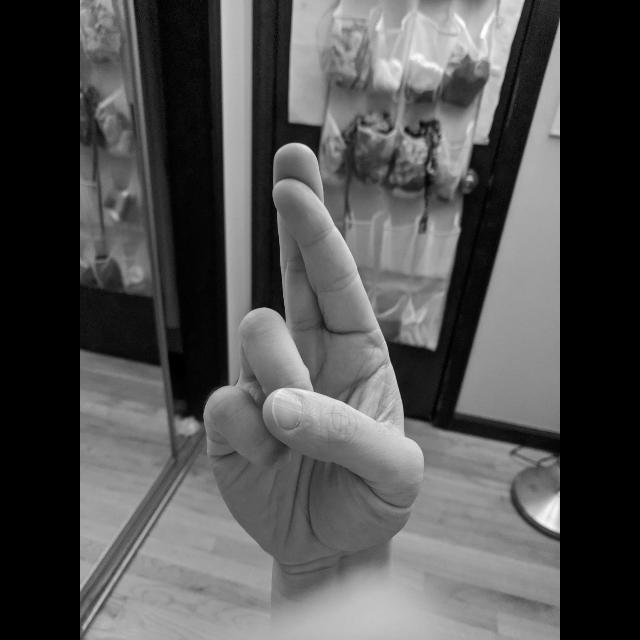R: (198, 139, 434, 587)
